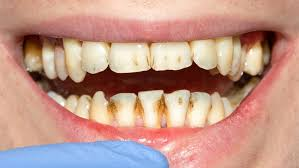decay: (109, 43, 151, 74), (151, 44, 193, 71), (136, 90, 164, 129), (164, 90, 191, 128), (82, 43, 110, 74), (111, 91, 135, 127), (189, 90, 210, 127)
normal: (44, 47, 55, 80), (56, 96, 66, 105), (47, 91, 57, 97)
rough: (92, 91, 111, 123)
yellow: (63, 37, 84, 83), (193, 41, 216, 70), (244, 48, 263, 77), (218, 38, 232, 77), (54, 46, 66, 80), (211, 93, 223, 123), (26, 51, 43, 71), (76, 96, 91, 118), (232, 40, 240, 80), (222, 97, 231, 116), (66, 96, 76, 111)
